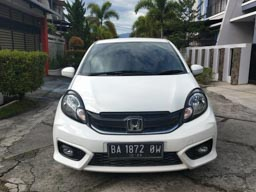plat: (109, 141, 165, 153)
